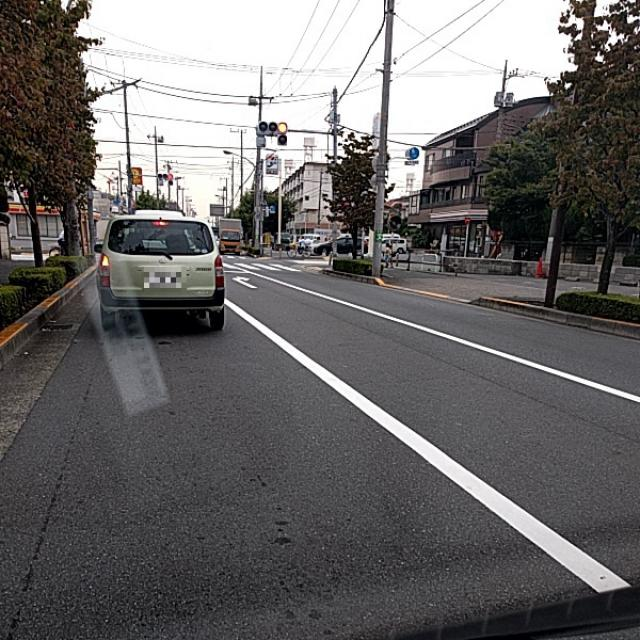pothole: (12, 437, 85, 502)
